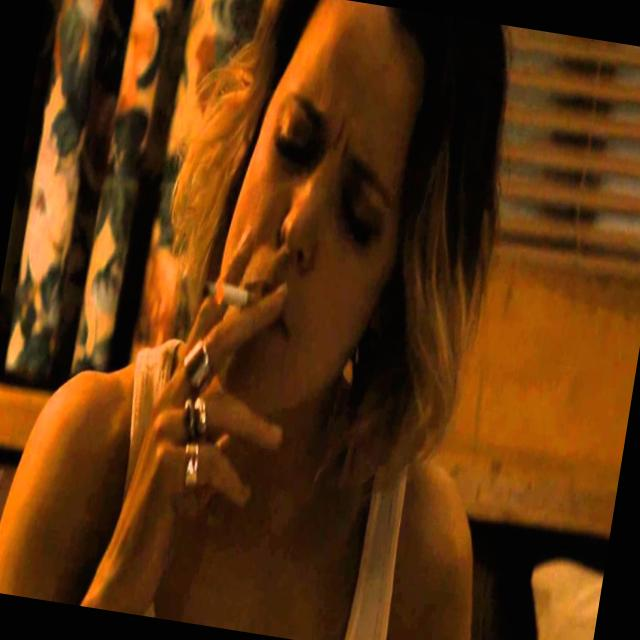cigarette: (196, 252, 282, 330)
